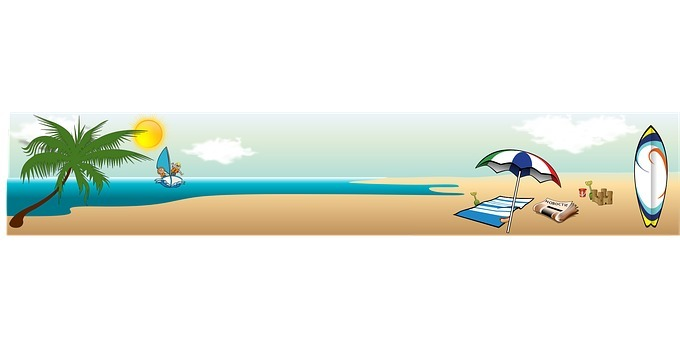boat: (149, 144, 187, 193)
